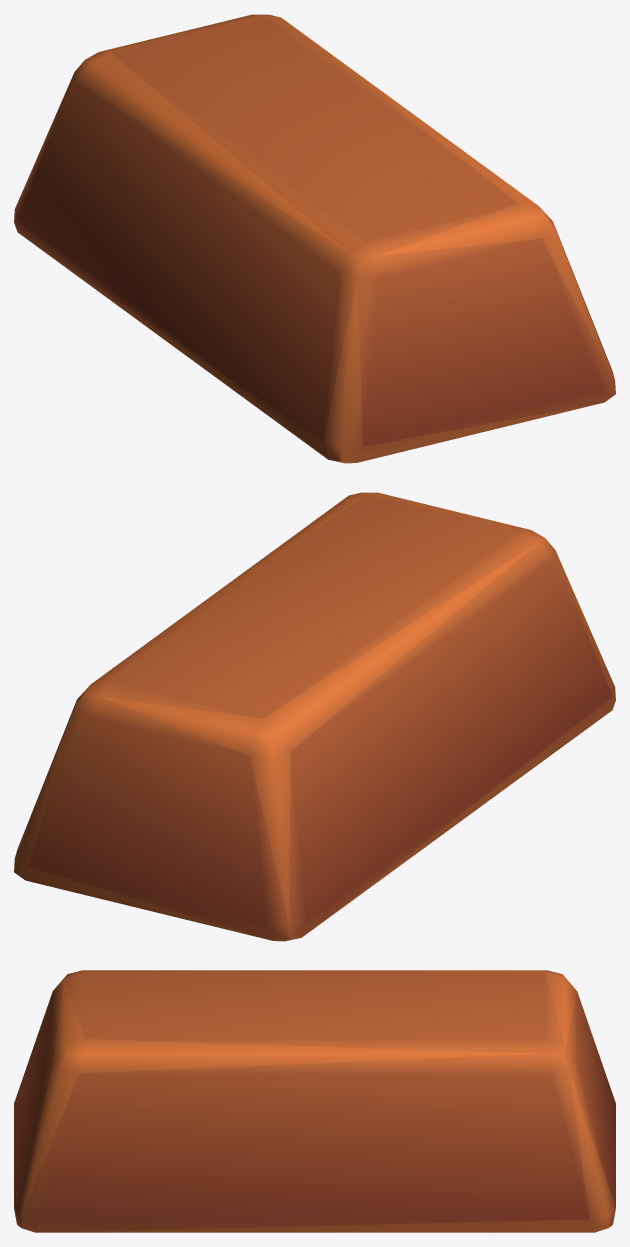
The model's file is Copper_Bar.glb.
The picture shows the model from 3 angles, top to bottom: view 1: azimuth 30°, elevation 25°; view 2: azimuth 150°, elevation 25°; view 3: azimuth 270°, elevation 25°; orthographic projection. The views are drawn at different scales.
Parts seen in each view (by area): view 1: Copper_Bar; view 2: Copper_Bar; view 3: Copper_Bar.
Boxes of the visible parts, box(x1,y1,x2,y2) form: Copper_Bar: box(14, 14, 615, 463); Copper_Bar: box(14, 492, 615, 941); Copper_Bar: box(14, 970, 615, 1232).
Size of the model in its own units: 0.4 by 0.25 by 0.8.
Materials: 1 (1 with a texture image).
